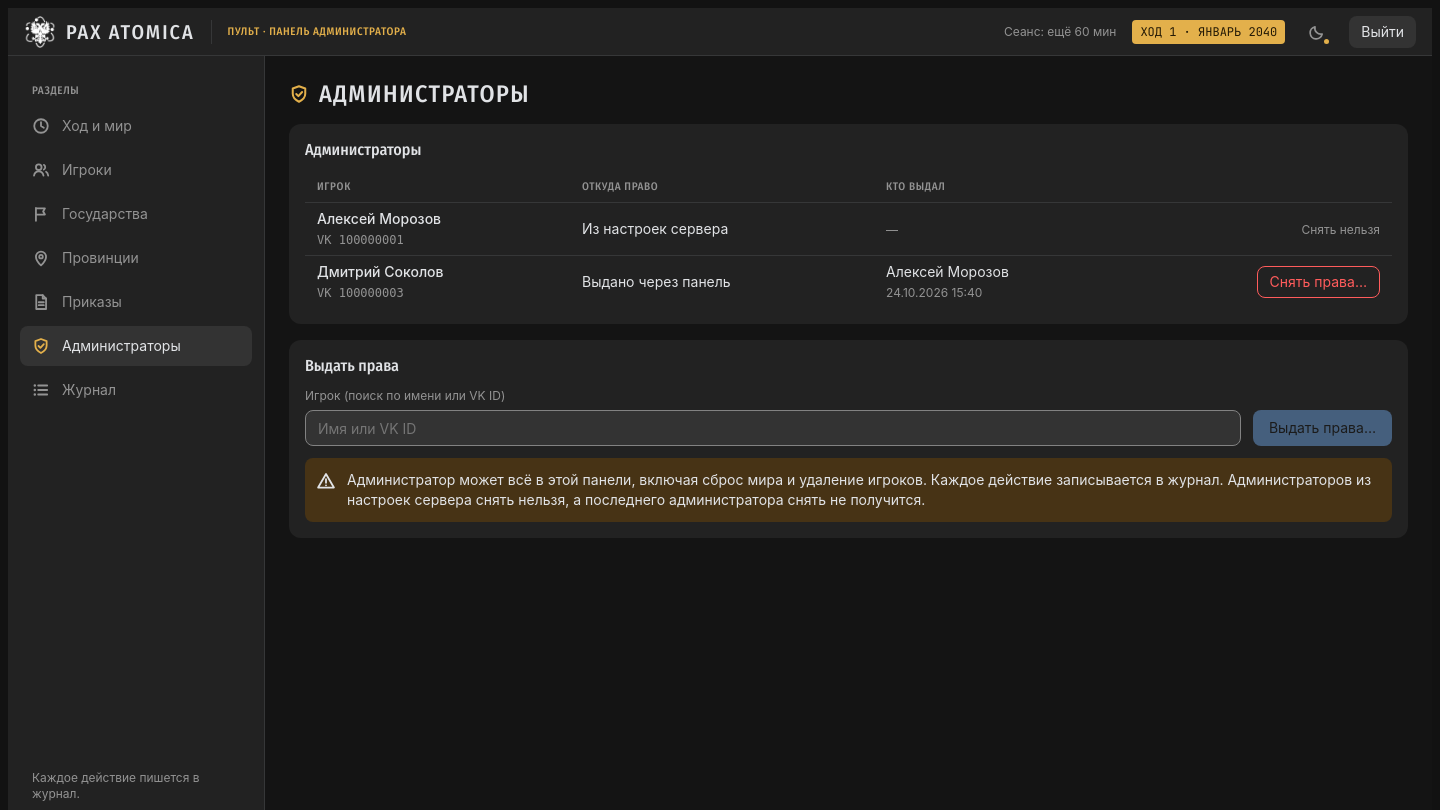
Scenario: «Администраторы» section › «Выдать права…» stays disabled until a suggestion is picked
The width and height of the screenshot is (1440, 810).
Expected: the table with test id "admins-table" is shown, [305, 172, 1392, 308]
Expected: the button with test id "open-grant" is disabled, [1253, 410, 1392, 446]
Type "Ольга" into the field with test id "admins-grant-search" at (773, 428), box [305, 410, 1241, 446]
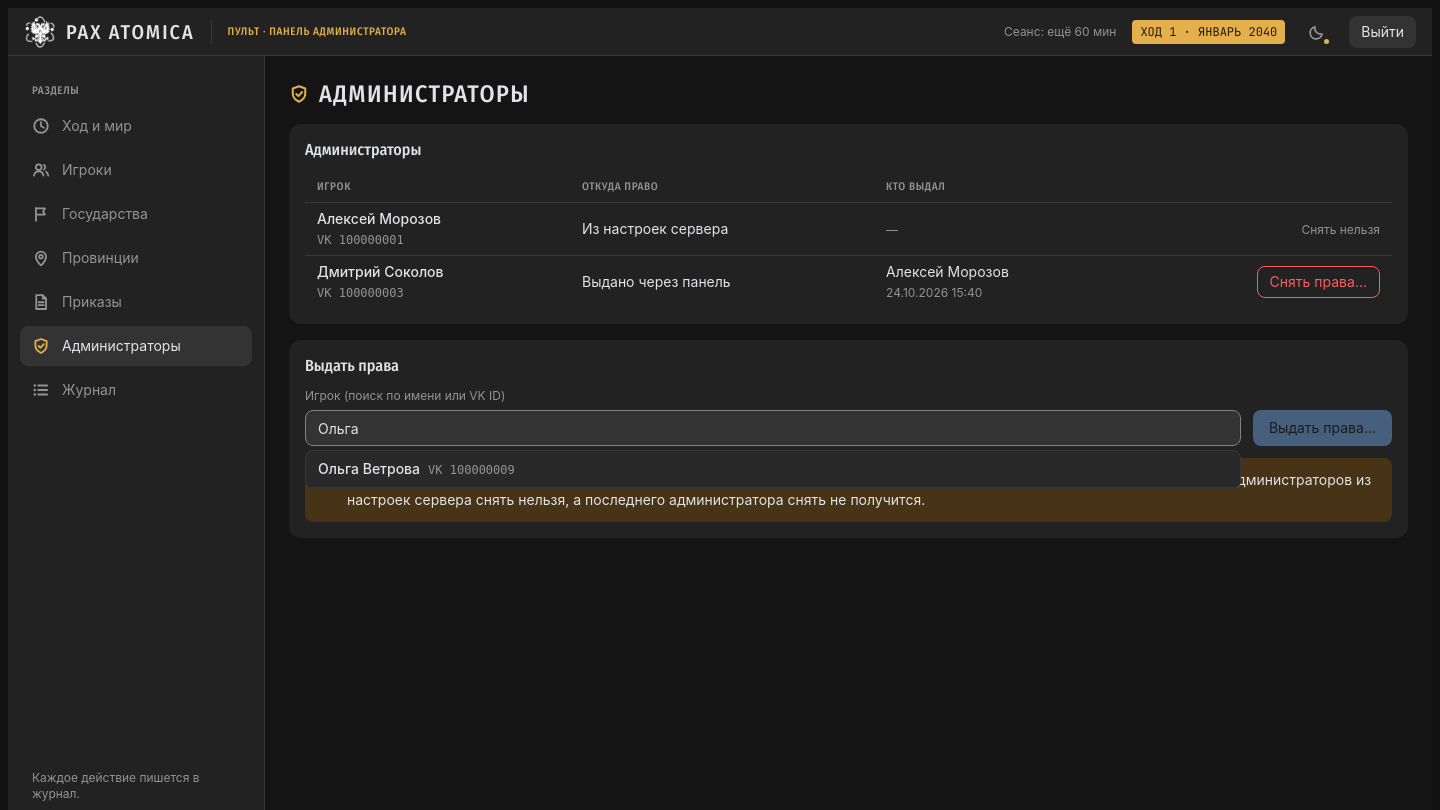
Press the mouse on the button with test id "suggest-100000009" at (369, 468), box [306, 451, 1240, 488]
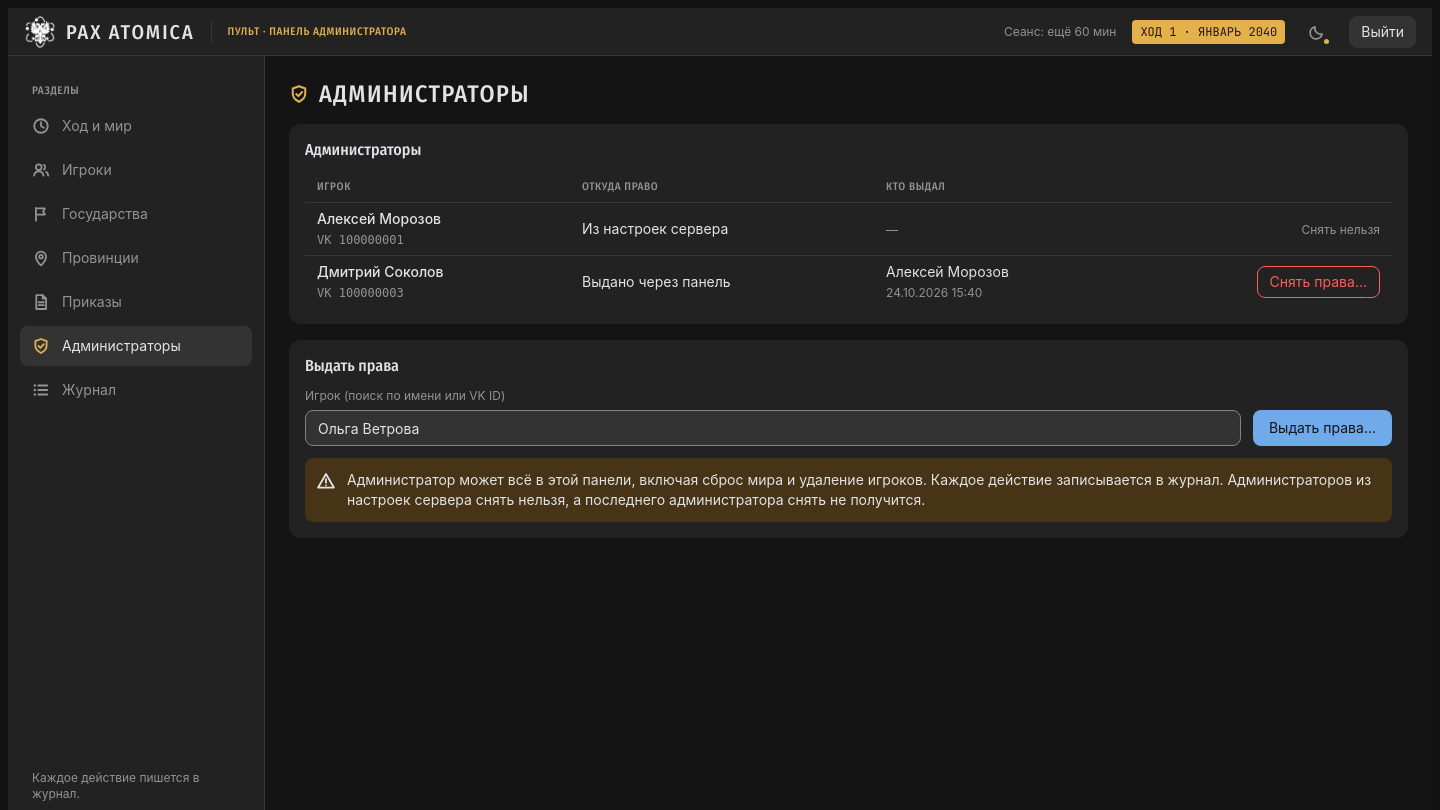
Result: the button with test id "open-grant" is enabled
Click the button with test id "open-grant" at (1322, 428), box [1253, 410, 1392, 446]
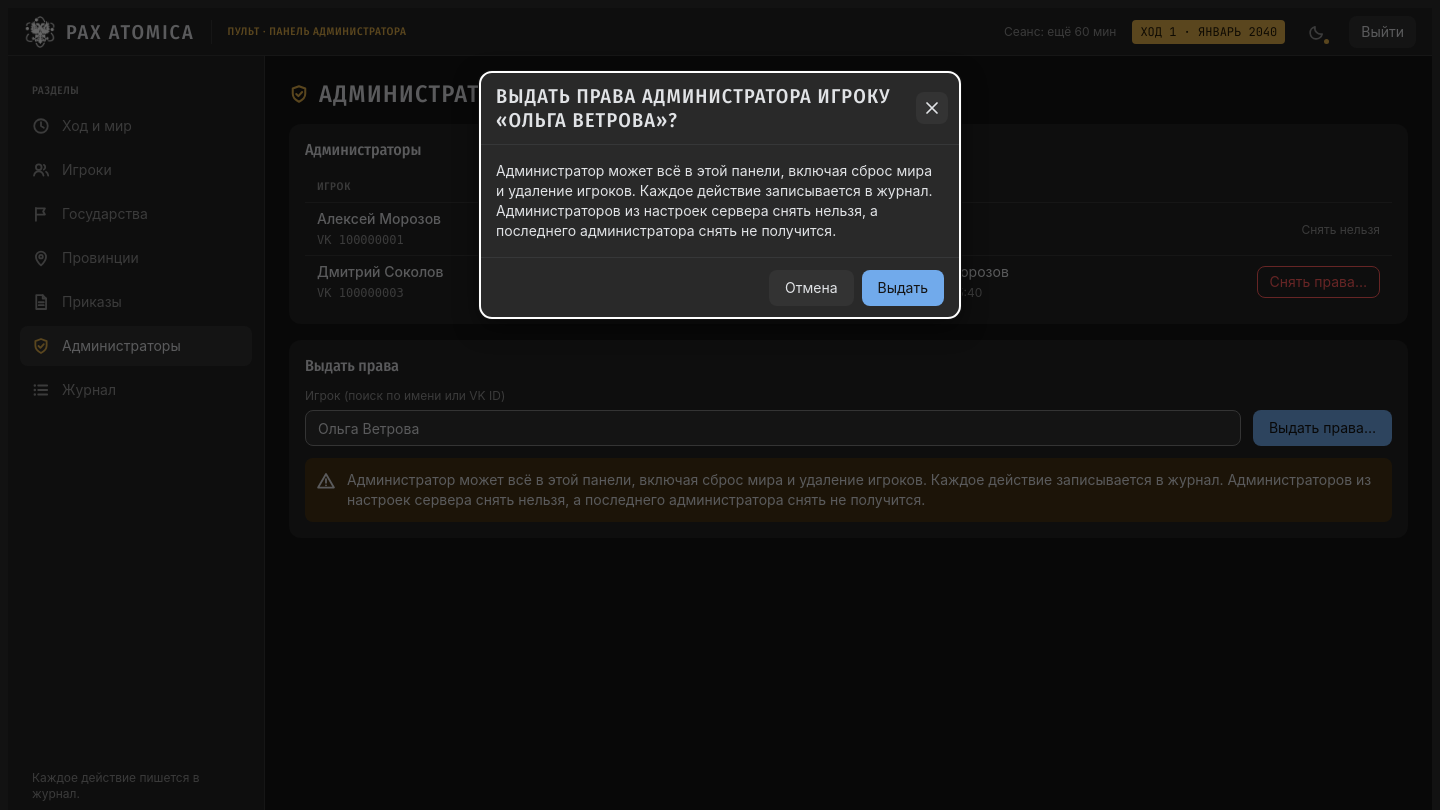
Result: the dialog with test id "grant-popup" shows "Выдать права администратора игроку «Ольга Ветрова»?" at [496, 84, 891, 132]
Result: the dialog with test id "grant-popup" shows "Администратор может всё в этой панели" at [496, 162, 932, 239]
Click the button with test id "confirm-grant" at (903, 288), box [862, 270, 944, 306]
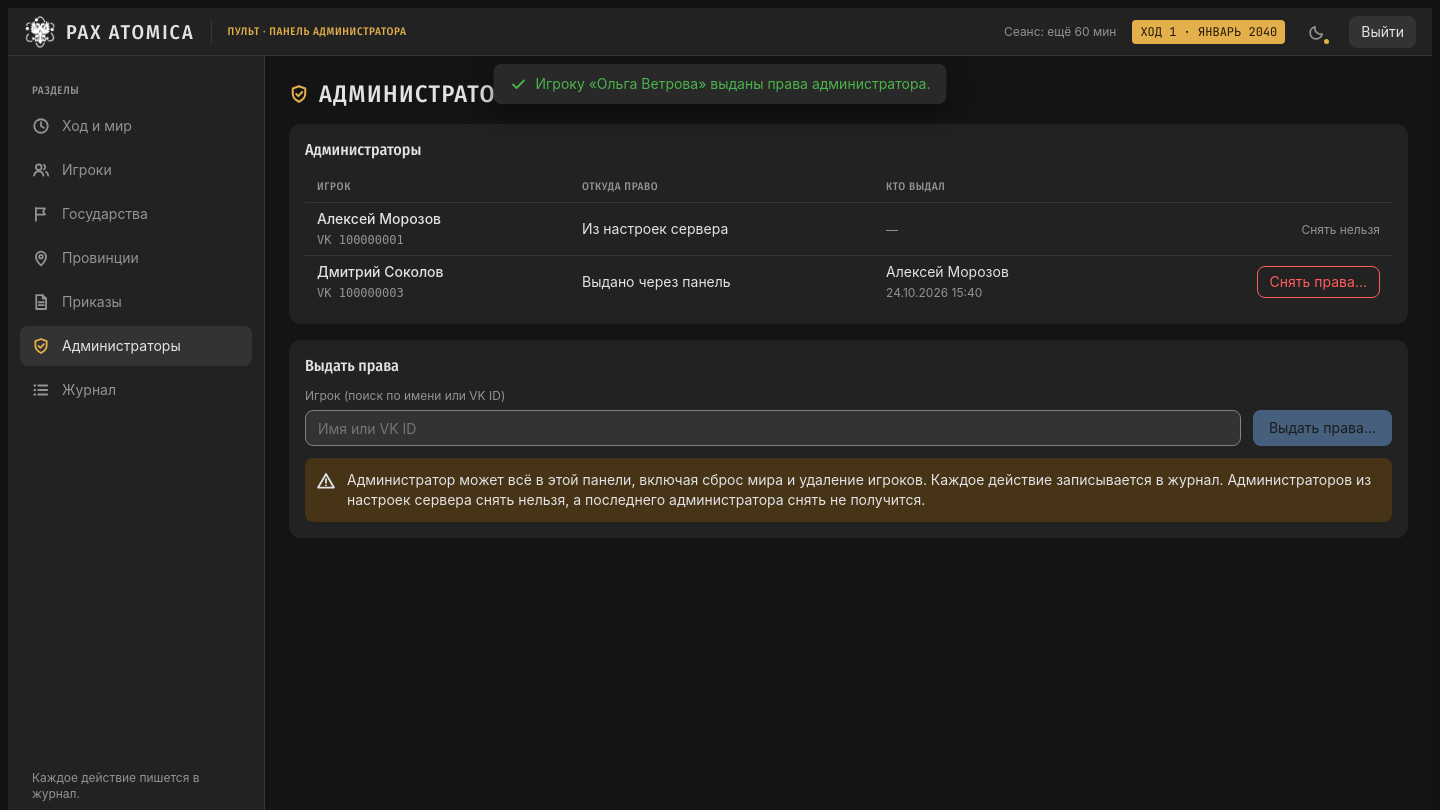
Result: the dialog with test id "grant-popup" is gone
Result: the text "Игроку «Ольга Ветрова» выданы права администратора." is shown at [536, 74, 930, 94]
